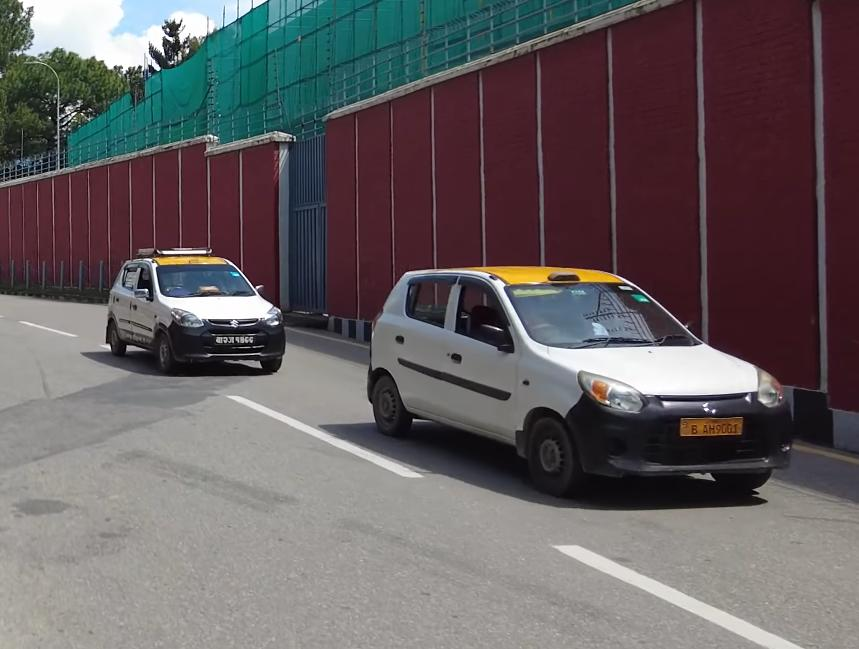taxi: (365, 262, 792, 504), (100, 239, 289, 376)
